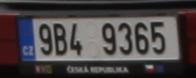3: (118, 23, 133, 54)
4: (70, 24, 82, 55)
5: (151, 22, 165, 54)
6: (135, 22, 149, 55)
9: (102, 23, 116, 54), (39, 24, 52, 55)
B: (54, 23, 67, 56)
